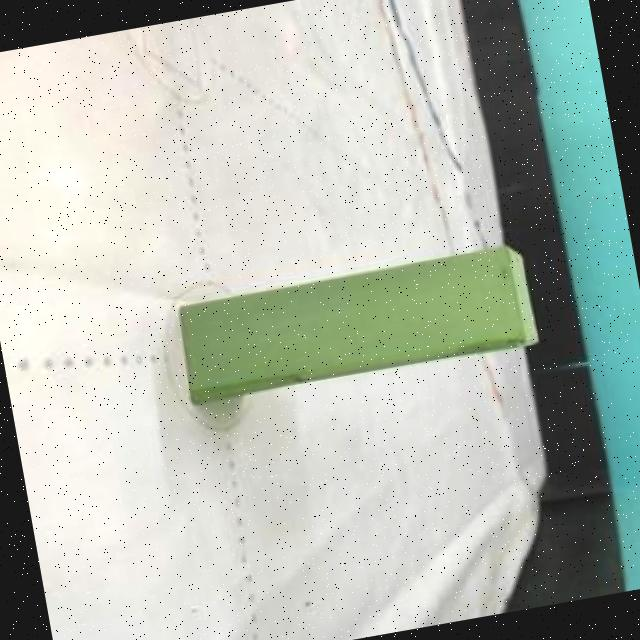greenbox: (172, 238, 542, 408)
